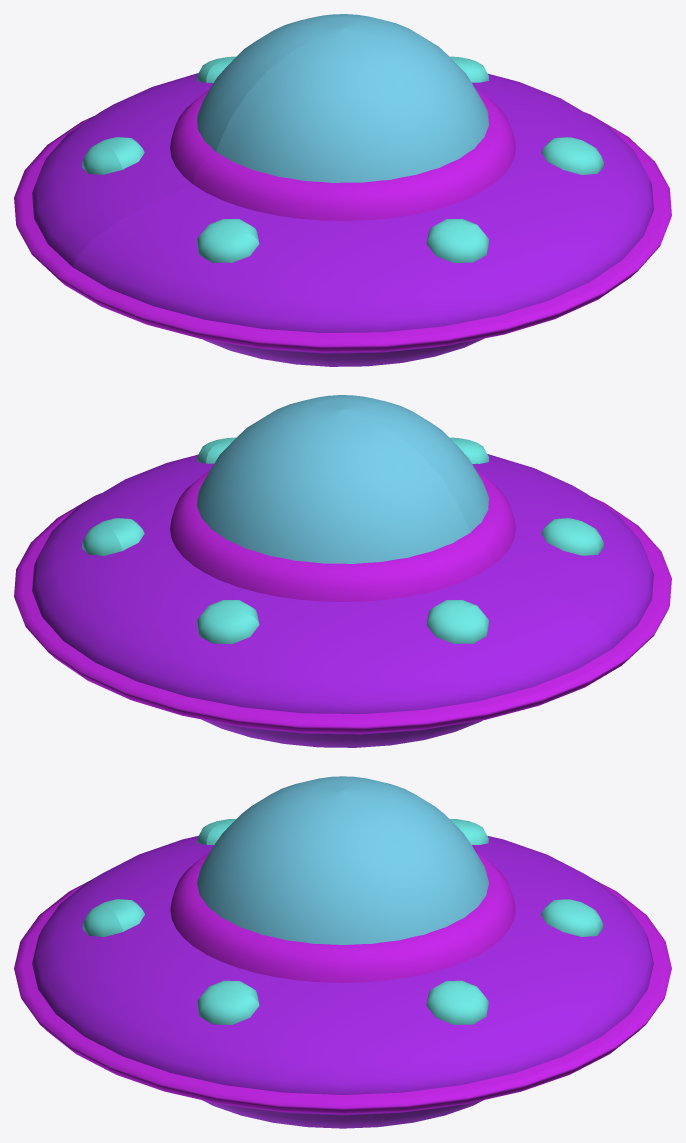
File: nave.glb
The picture shows the model from 3 angles, top to bottom: view 1: azimuth 30°, elevation 25°; view 2: azimuth 150°, elevation 25°; view 3: azimuth 270°, elevation 25°; orthographic projection.
Parts seen in each view (by area): view 1: ufo_0; view 2: ufo_0; view 3: ufo_0.
Boxes of the visible parts, x1=… form: ufo_0: x1=14, y1=14, x2=671, y2=366; ufo_0: x1=14, y1=395, x2=671, y2=747; ufo_0: x1=14, y1=776, x2=671, y2=1128.
Bounding box in the file's own units: 4.21 × 1.95 × 4.21.
